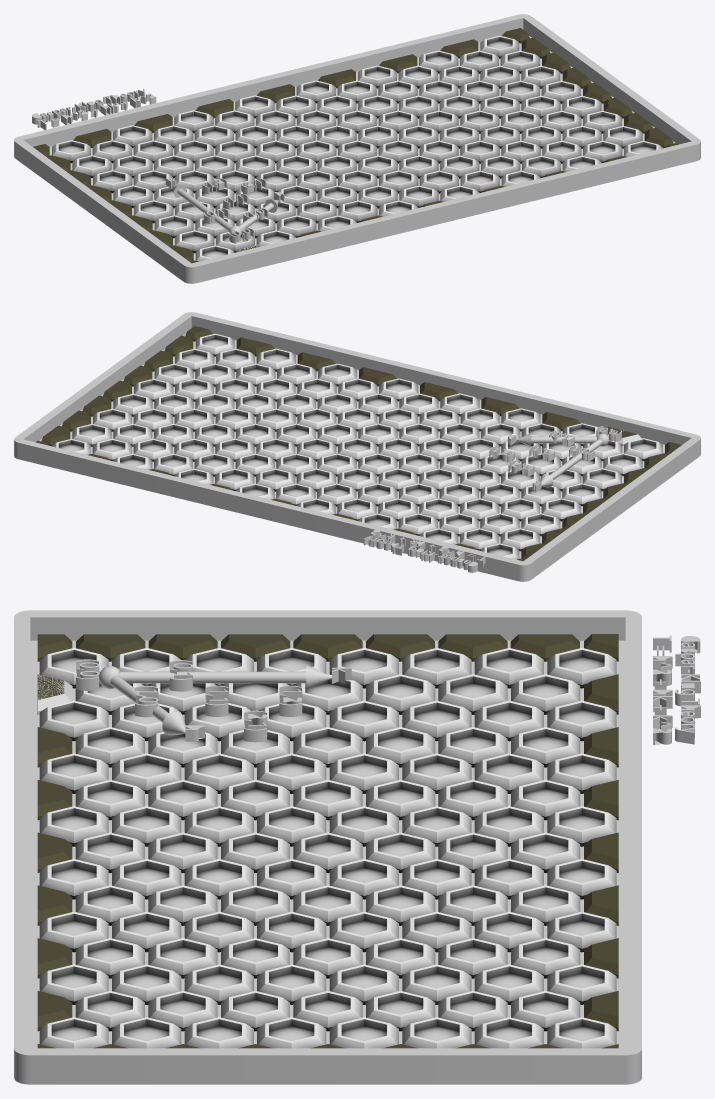
Rendered from honeycomb_Platform.fbx.
The picture shows the model from 3 angles, top to bottom: view 1: azimuth 30°, elevation 25°; view 2: azimuth 150°, elevation 25°; view 3: azimuth 270°, elevation 25°; orthographic projection. The views are drawn at different scales.
Parts seen in each view (by area): view 1: Frame, Hexago_Subunit_47, Hexago_Subunit_92, Hexago_Subunit_17, Hexago_Subunit_62, Hexago_Subunit_87, Hexago_Subunit_32, Hexago_Subunit_77, Hexago_Subunit_80, Hexago_Subunit_94, Hexago_Subunit_14, Hexago_Subunit_19 (+96 smaller); view 2: Frame, Hexago_Subunit_17, Hexago_Subunit_62, Hexago_Subunit_92, Hexago_Subunit_27, Hexago_Subunit_47, Hexago_Subunit_78, Hexago_Subunit_32, Hexago_Subunit_35, Hexago_Subunit_77, Hexago_Subunit_53, Hexago_Subunit_86 (+91 smaller); view 3: Frame, Cylinder, Hexago_Subunit_112, Hexago_Subunit_7, Hexago_Subunit_109, Hexago_Subunit_113, Hexago_Subunit_5_3, Hexago_Subunit_56, Hexago_Subunit_111, Hexago_Subunit_3_3, Hexago_Subunit_27, Hexago_Subunit_29 (+131 smaller).
Boxes of the visible parts, bbox=[...] form: Frame: bbox=[14, 14, 700, 283]; Hexago_Subunit_47: bbox=[134, 200, 173, 223]; Hexago_Subunit_92: bbox=[72, 155, 111, 177]; Hexago_Subunit_17: bbox=[175, 230, 214, 253]; Hexago_Subunit_62: bbox=[113, 185, 152, 208]; Hexago_Subunit_87: bbox=[235, 125, 274, 148]; Hexago_Subunit_32: bbox=[154, 215, 193, 238]; Hexago_Subunit_77: bbox=[93, 170, 132, 193]; Hexago_Subunit_80: bbox=[276, 125, 315, 148]; Hexago_Subunit_94: bbox=[194, 125, 233, 148]; Hexago_Subunit_14: bbox=[460, 170, 499, 192]; Hexago_Subunit_19: bbox=[297, 200, 336, 223]; Frame: bbox=[14, 312, 700, 581]; Hexago_Subunit_17: bbox=[603, 453, 642, 475]; Hexago_Subunit_62: bbox=[541, 498, 580, 521]; Hexago_Subunit_92: bbox=[500, 528, 539, 551]; Hexago_Subunit_27: bbox=[440, 423, 479, 446]; Hexago_Subunit_47: bbox=[562, 483, 601, 506]; Hexago_Subunit_78: bbox=[460, 498, 499, 521]; Hexago_Subunit_32: bbox=[582, 468, 621, 491]; Hexago_Subunit_35: bbox=[399, 423, 438, 446]; Hexago_Subunit_77: bbox=[521, 513, 560, 536]; Hexago_Subunit_53: bbox=[195, 393, 234, 416]; Hexago_Subunit_86: bbox=[419, 498, 458, 521]; Frame: bbox=[14, 610, 641, 1084]; Cylinder: bbox=[120, 671, 306, 683]; Hexago_Subunit_112: bbox=[547, 911, 616, 952]; Hexago_Subunit_7: bbox=[39, 911, 108, 952]; Hexago_Subunit_109: bbox=[547, 753, 616, 793]; Hexago_Subunit_113: bbox=[547, 964, 616, 1004]; Hexago_Subunit_5_3: bbox=[39, 806, 108, 846]; Hexago_Subunit_56: bbox=[293, 727, 362, 767]; Hexago_Subunit_111: bbox=[547, 859, 616, 899]; Hexago_Subunit_3_3: bbox=[39, 700, 108, 741]; Hexago_Subunit_27: bbox=[148, 780, 217, 820]; Hexago_Subunit_29: bbox=[148, 885, 217, 925].
Bounding box in the file's own units: 1628 × 65.04 × 1062.
Materials: 2 (1 with a texture image).
